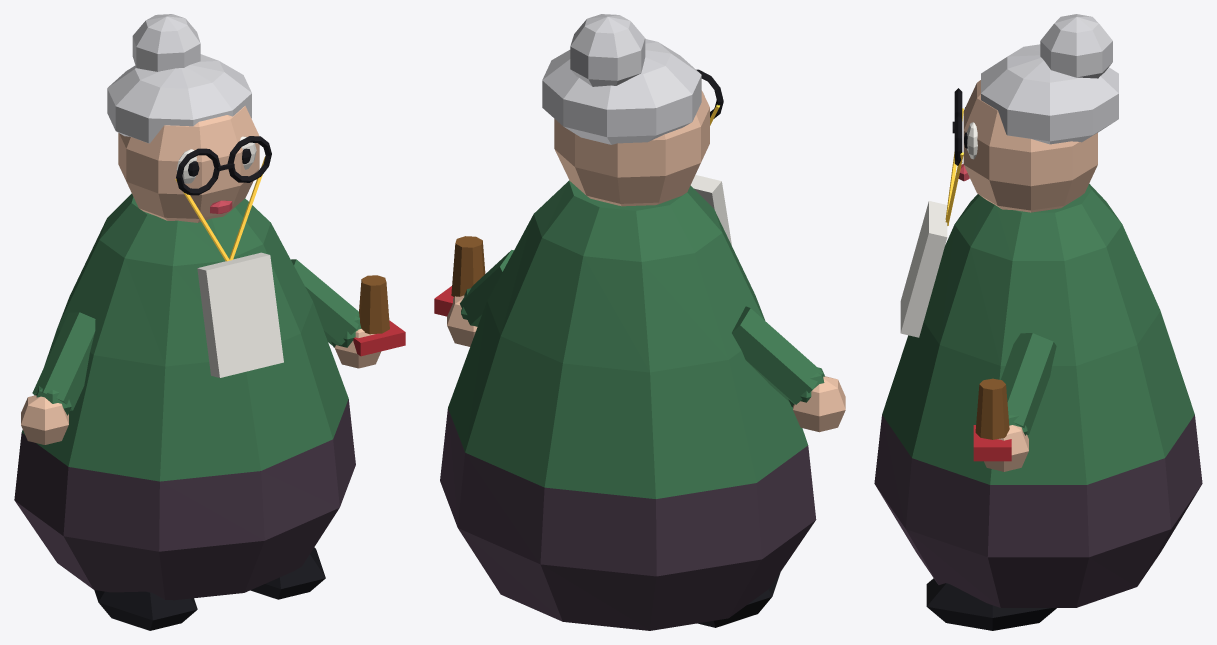
File: npc_sellito.glb
3 renders of one model, left to right at view 1: azimuth 30°, elevation 25°; view 2: azimuth 150°, elevation 25°; view 3: azimuth 270°, elevation 25°, orthographic. The views are drawn at different scales.
Visible parts, largest first — view 1: body_sellito_cardigan, body_sellito_skirt, hair_hair_grey, head_skin_rosada, body_white, arms_sellito_cardigan, legs_black, arms_skin_rosada, face_black, props_stamp_wood, props_stamp_rubber, face_gold; view 2: body_sellito_cardigan, body_sellito_skirt, hair_hair_grey, head_skin_rosada, arms_sellito_cardigan, arms_skin_rosada, props_stamp_wood, body_white, legs_black; view 3: body_sellito_cardigan, body_sellito_skirt, hair_hair_grey, head_skin_rosada, arms_sellito_cardigan, body_white, legs_black, props_stamp_wood, arms_skin_rosada, props_stamp_rubber, face_black, face_gold.
Part boxes in pixels (left/top/right/bottom): body_sellito_cardigan: left=21, top=193, right=348, bottom=481; body_sellito_skirt: left=14, top=399, right=355, bottom=600; hair_hair_grey: left=107, top=14, right=251, bottom=143; head_skin_rosada: left=118, top=106, right=259, bottom=222; body_white: left=197, top=252, right=283, bottom=377; arms_sellito_cardigan: left=32, top=259, right=361, bottom=415; legs_black: left=94, top=547, right=325, bottom=630; arms_skin_rosada: left=21, top=329, right=381, bottom=444; face_black: left=176, top=136, right=271, bottom=195; props_stamp_wood: left=359, top=275, right=389, bottom=334; props_stamp_rubber: left=353, top=320, right=405, bottom=356; face_gold: left=175, top=156, right=265, bottom=261; body_sellito_cardigan: left=448, top=180, right=807, bottom=498; body_sellito_skirt: left=440, top=408, right=816, bottom=630; hair_hair_grey: left=542, top=14, right=701, bottom=144; head_skin_rosada: left=554, top=90, right=709, bottom=206; arms_sellito_cardigan: left=460, top=250, right=824, bottom=407; arms_skin_rosada: left=447, top=295, right=845, bottom=432; props_stamp_wood: left=451, top=236, right=485, bottom=296; body_white: left=690, top=175, right=731, bottom=245; legs_black: left=697, top=572, right=780, bottom=627; body_sellito_cardigan: left=882, top=183, right=1194, bottom=484; body_sellito_skirt: left=874, top=415, right=1202, bottom=607; hair_hair_grey: left=981, top=14, right=1118, bottom=144; head_skin_rosada: left=963, top=80, right=1097, bottom=212; arms_sellito_cardigan: left=1001, top=333, right=1056, bottom=435; body_white: left=900, top=201, right=947, bottom=337; legs_black: left=926, top=578, right=1056, bottom=630; props_stamp_wood: left=975, top=378, right=1009, bottom=439; arms_skin_rosada: left=984, top=425, right=1028, bottom=471; props_stamp_rubber: left=973, top=425, right=1011, bottom=461; face_black: left=952, top=88, right=967, bottom=165; face_gold: left=945, top=108, right=963, bottom=225.
Bounding box in the file's own units: 1.15 × 1.66 × 0.86.
